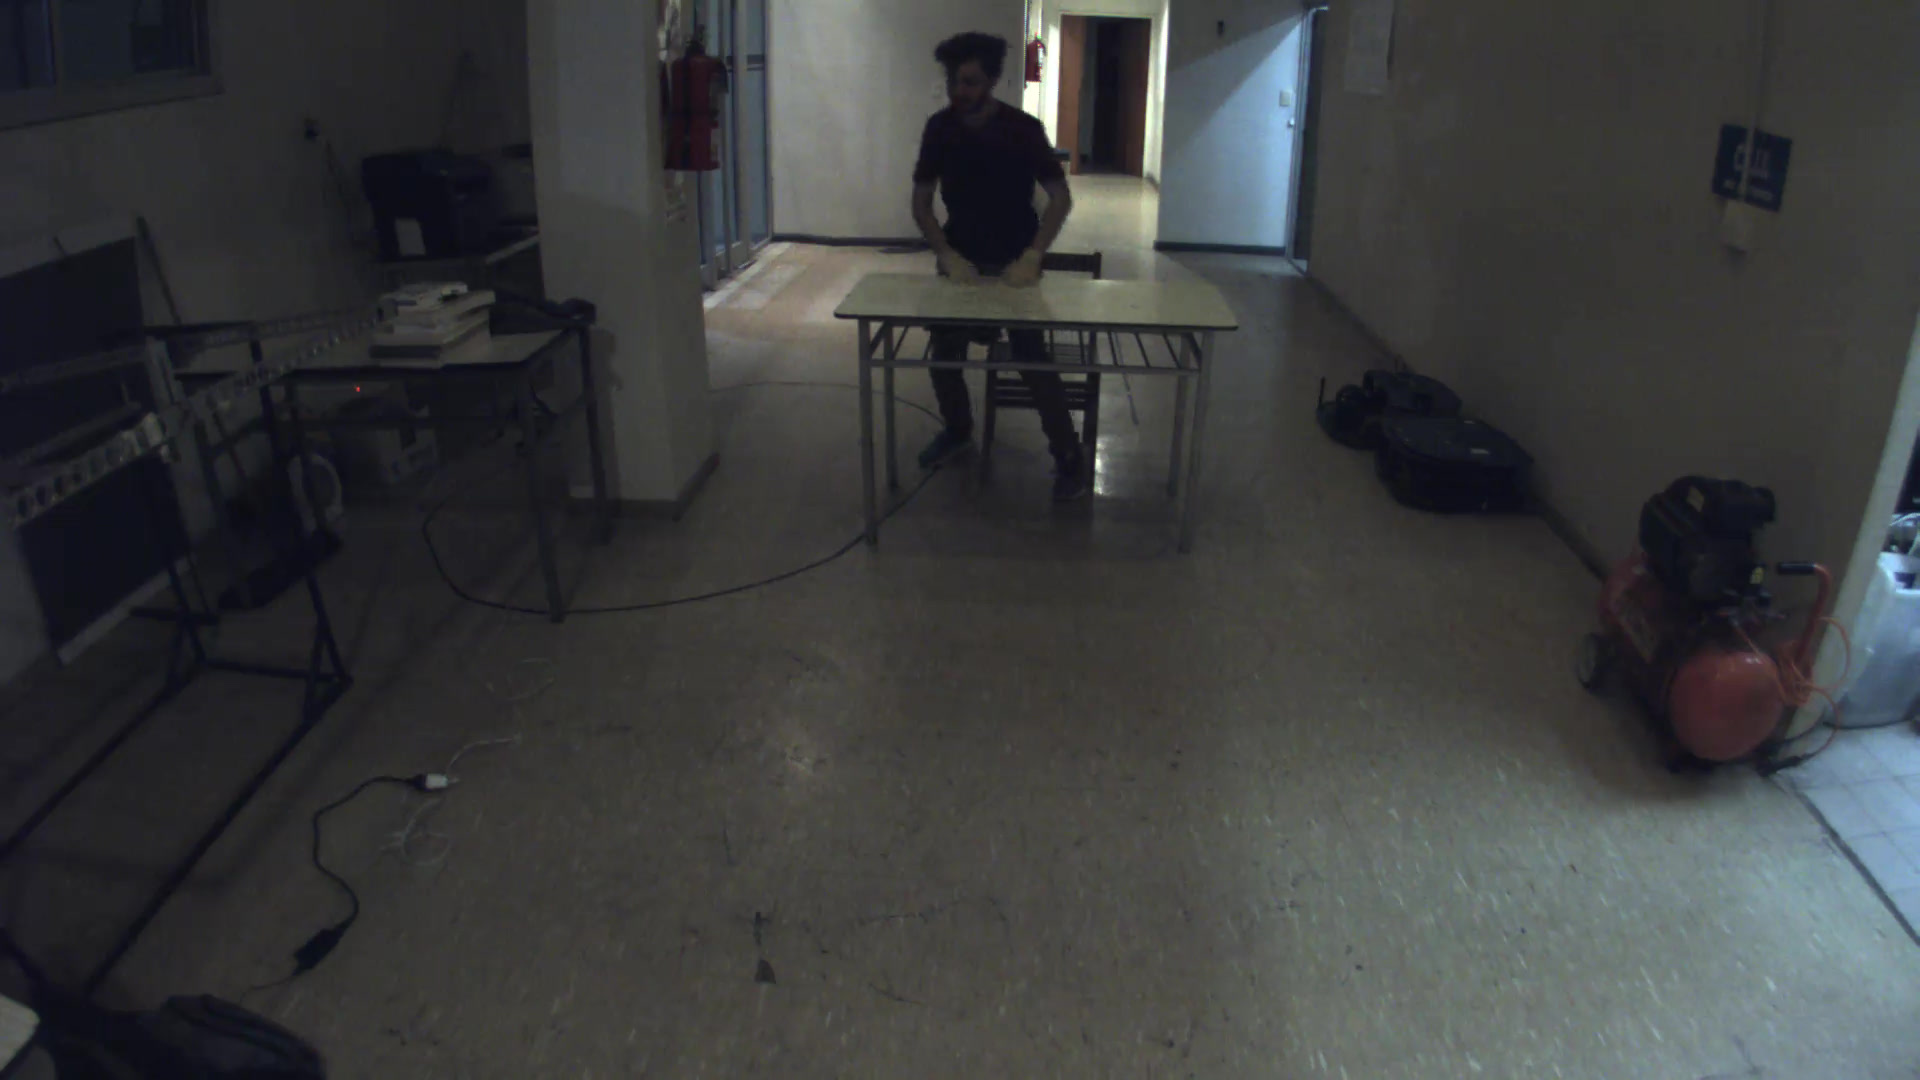hand: (924, 243, 985, 289), (1006, 248, 1052, 299)
